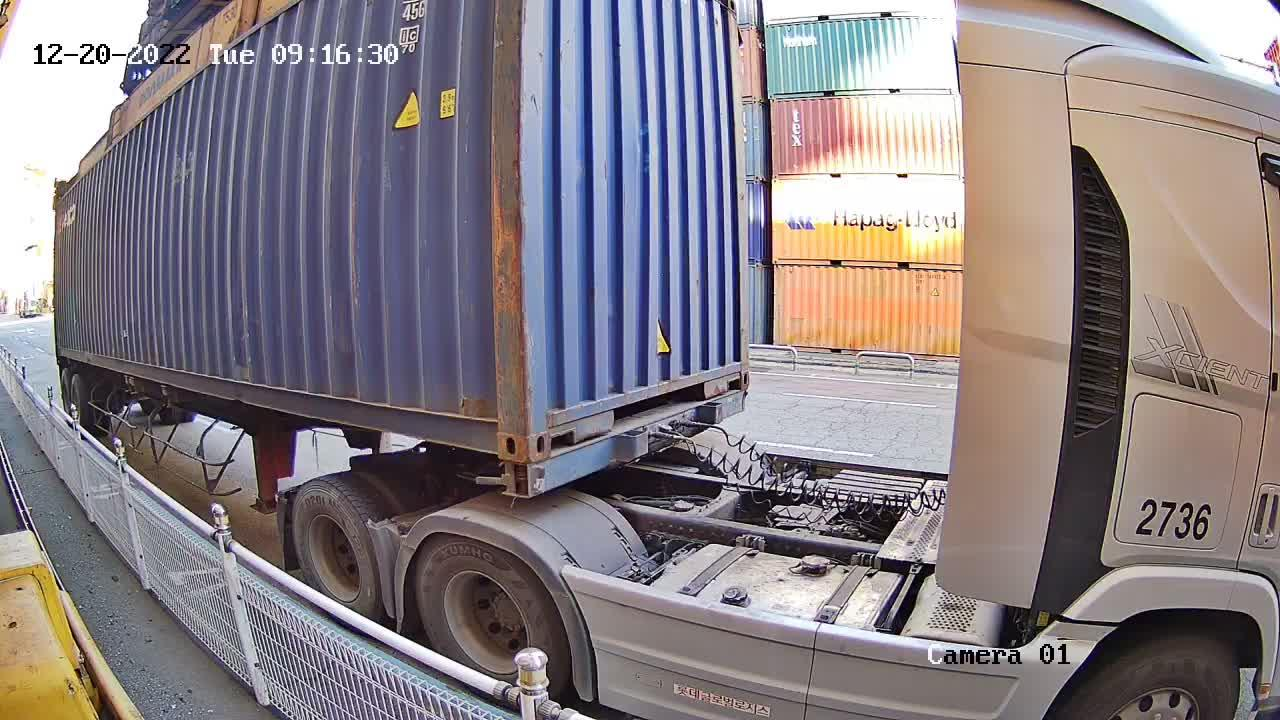Chassis: (504, 390, 746, 494)
Cone: (501, 461, 532, 494)
Hole_L: (526, 378, 586, 462)
Hole_R: (465, 389, 526, 464), (709, 343, 751, 396)
Tire: (417, 536, 560, 680), (292, 484, 377, 611)
